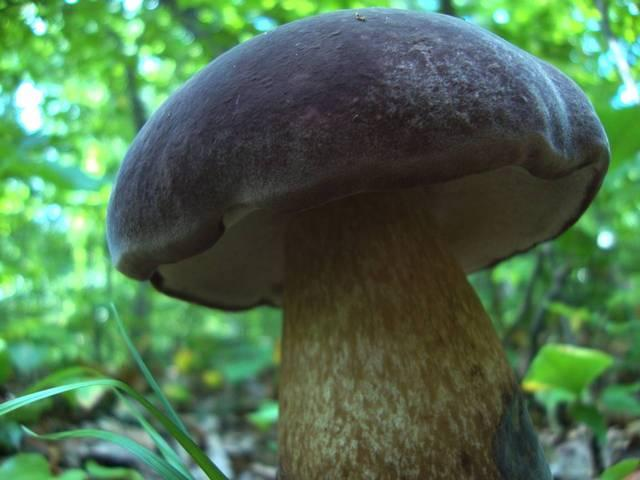Non-edible Mushroom: (104, 6, 611, 479)
